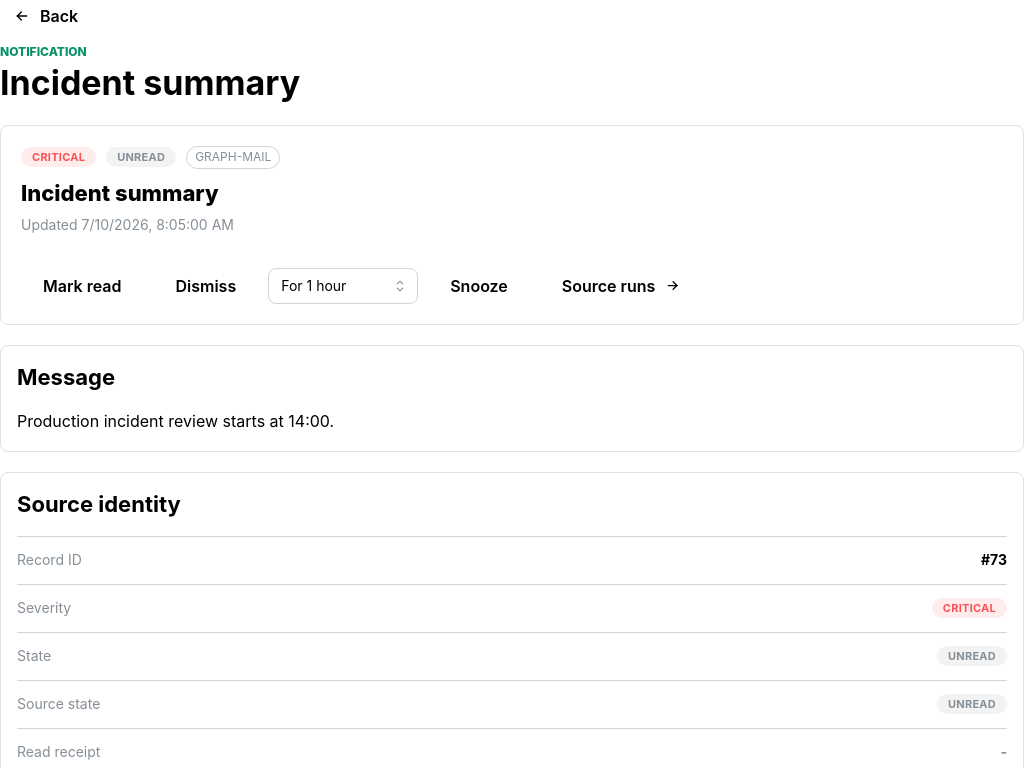
Test case: NotificationDetailView actions › snoozes a notification until tomorrow
What coordinates should you click on to do the following:
click the field named "Snooze duration"
I would click on:
 (343, 286)
Its box is [268, 268, 418, 304].
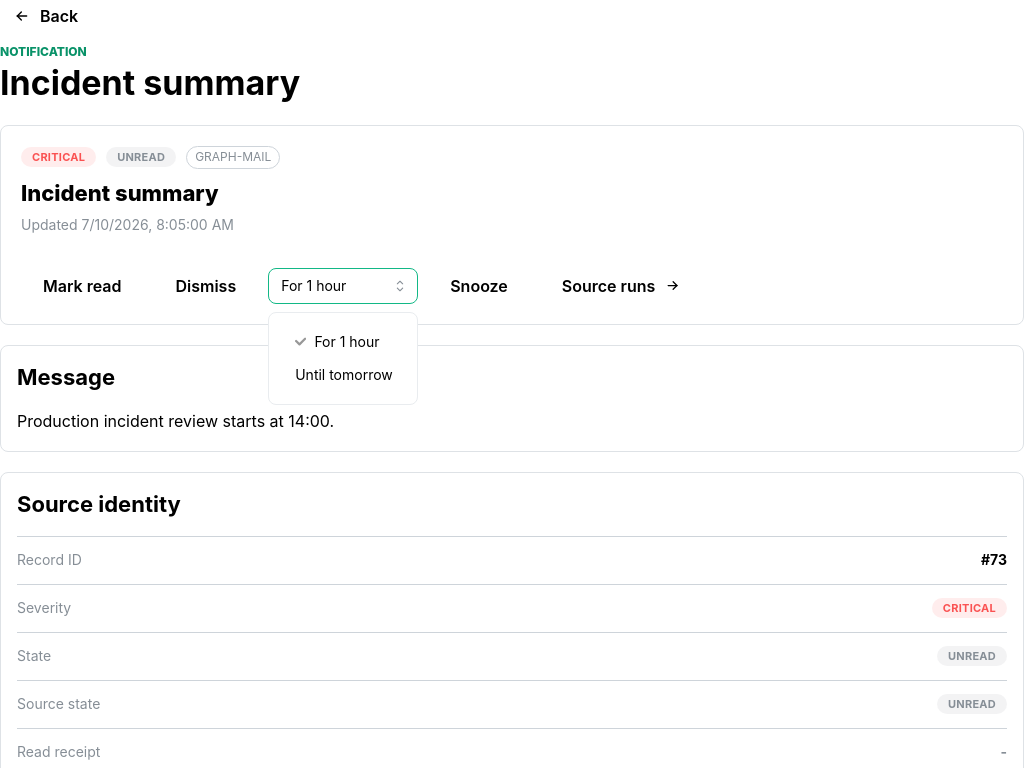
What coordinates should you click on to do the following:
click the option "Until tomorrow"
I would click on:
 (344, 375)
Its box is [295, 366, 393, 383].
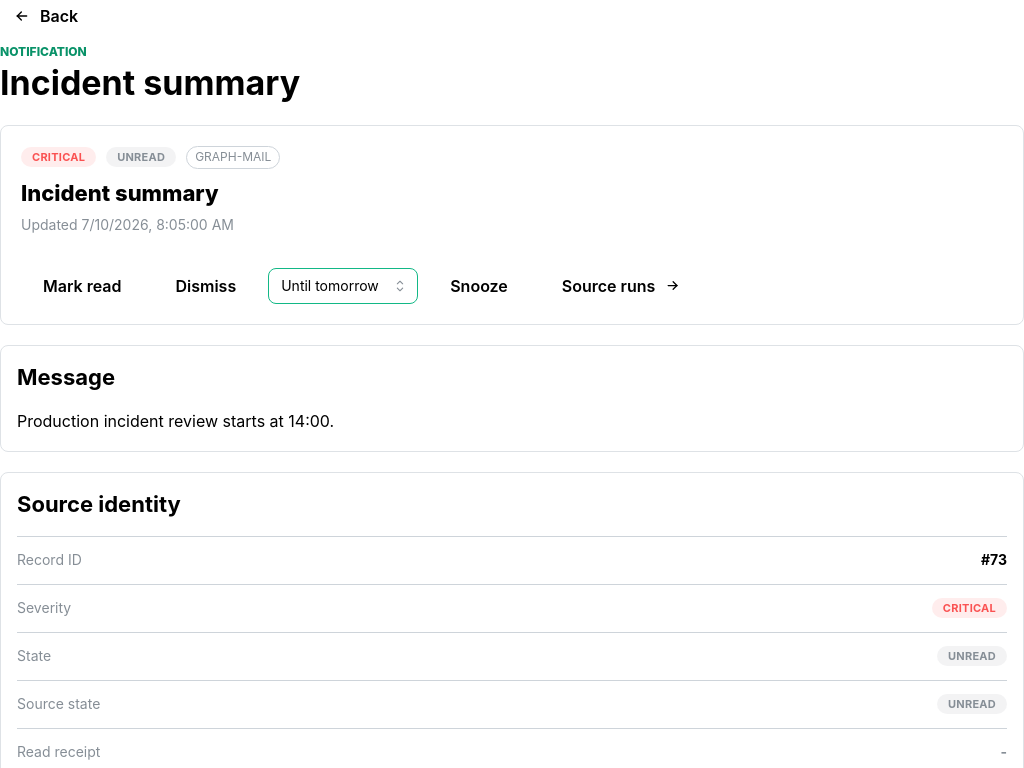
What coordinates should you click on to do the following:
click the button "Snooze"
I would click on:
 (479, 286)
Its box is [428, 268, 530, 304].
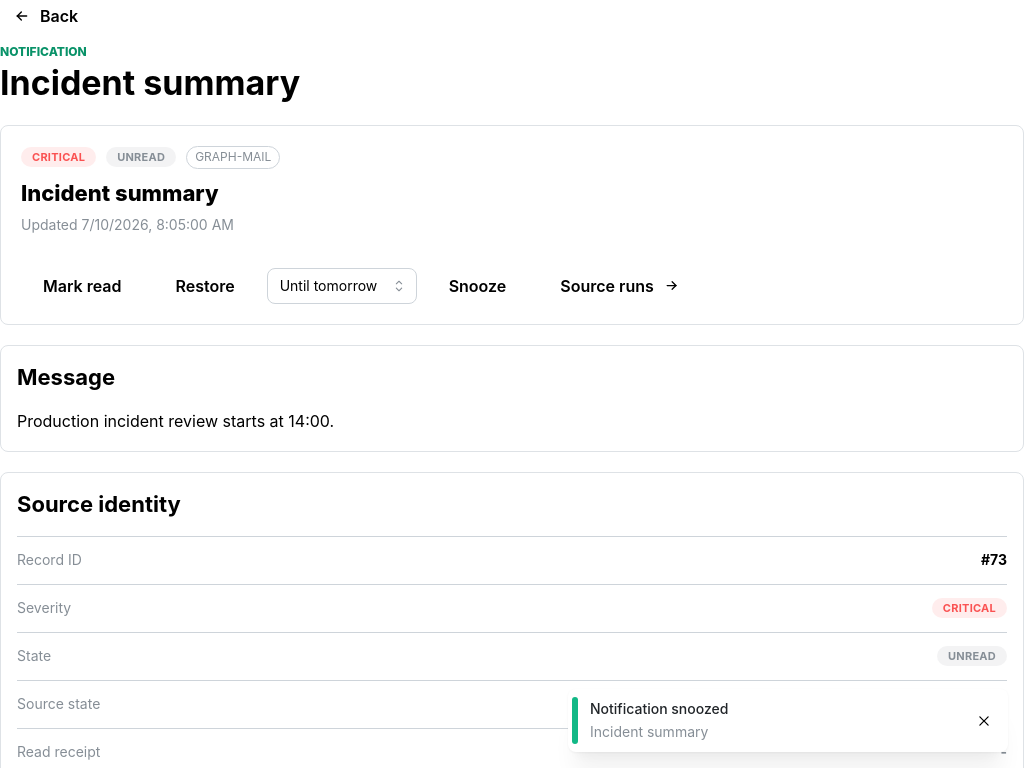
Now the button "Restore" is shown, box [154, 268, 257, 304]
